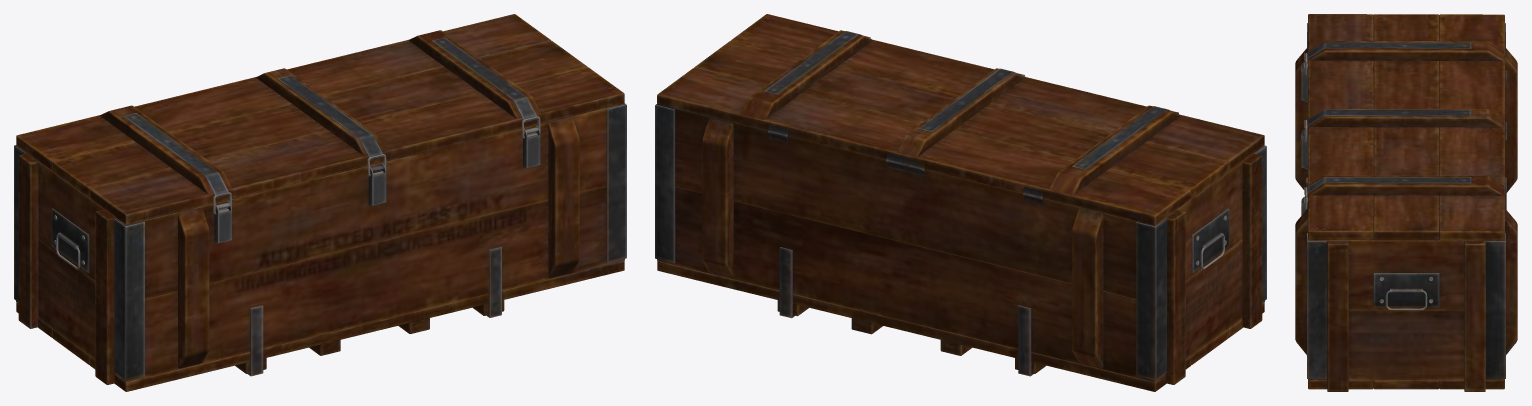
File: caixa_militar_madeira.glb
The picture shows the model from 3 angles, left to right: view 1: azimuth 30°, elevation 25°; view 2: azimuth 150°, elevation 25°; view 3: azimuth 270°, elevation 25°; orthographic projection. The views are drawn at different scales.
Visible parts, largest first — view 1: caixa_militar_madeira; view 2: caixa_militar_madeira; view 3: caixa_militar_madeira.
Part boxes in pixels (x1=…): caixa_militar_madeira: x1=14, y1=14, x2=626, y2=391; caixa_militar_madeira: x1=655, y1=14, x2=1266, y2=391; caixa_militar_madeira: x1=1295, y1=14, x2=1517, y2=391.
Size of the model in its own units: 1.24 by 0.4647 by 0.5198.
1 material, 1 textured.
